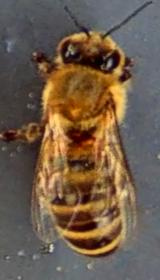varroa_mite: (74, 132, 106, 154)
